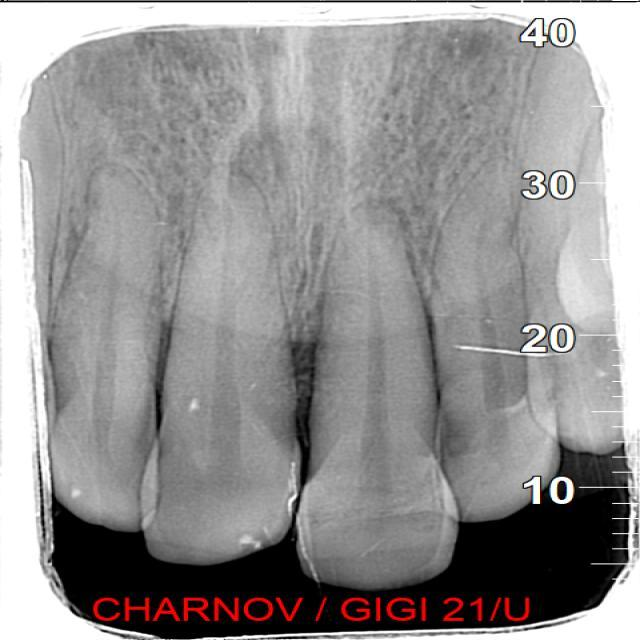individual-tooth-8tto: (296, 212, 461, 593), (146, 189, 297, 562)
